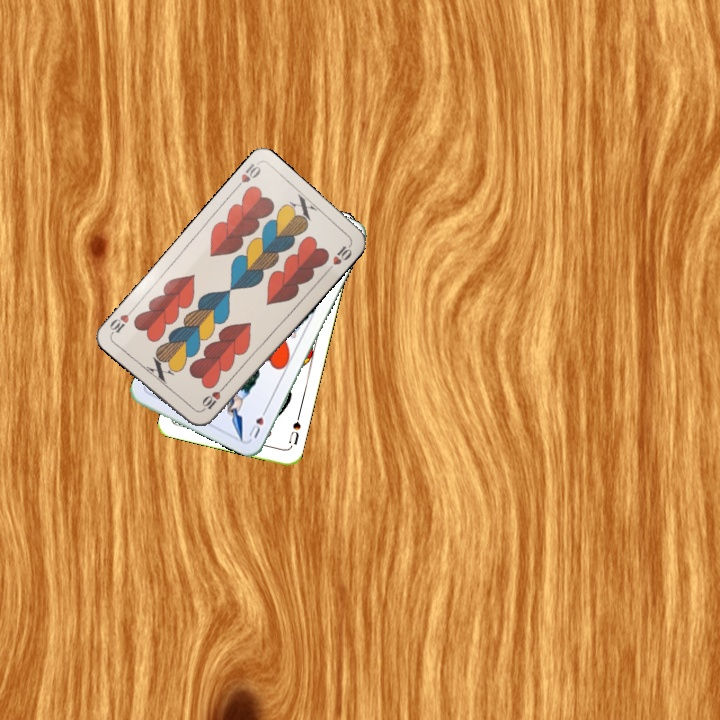H10: (230, 159, 263, 193), (197, 381, 228, 414)
HU: (245, 403, 271, 441)
SU: (284, 410, 303, 447)
